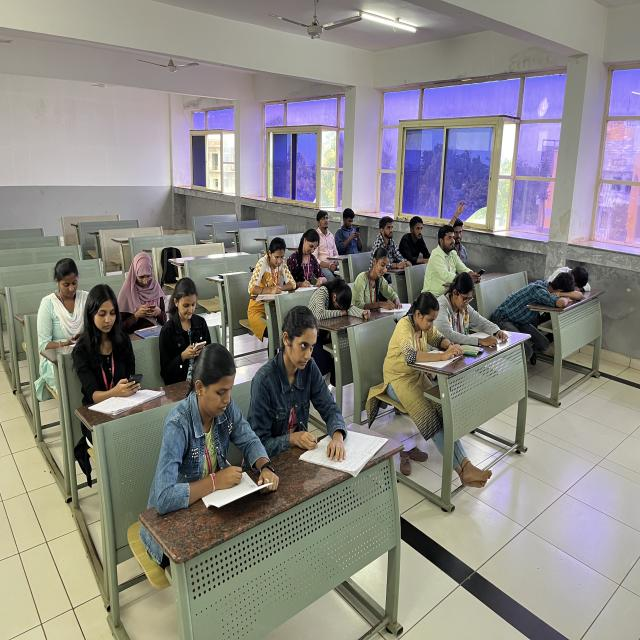Hand Rising: (447, 202, 473, 270)
Reading: (383, 286, 473, 386), (434, 271, 514, 350)
Sleeping: (487, 268, 581, 335), (302, 278, 375, 340), (544, 254, 595, 301)
Using Phone: (68, 276, 151, 411), (37, 252, 99, 350), (163, 270, 215, 378), (118, 241, 166, 336), (423, 222, 486, 288), (334, 208, 368, 254)
Writing: (246, 301, 373, 465), (156, 341, 268, 497), (354, 246, 410, 314), (250, 233, 294, 310), (285, 228, 328, 294)
